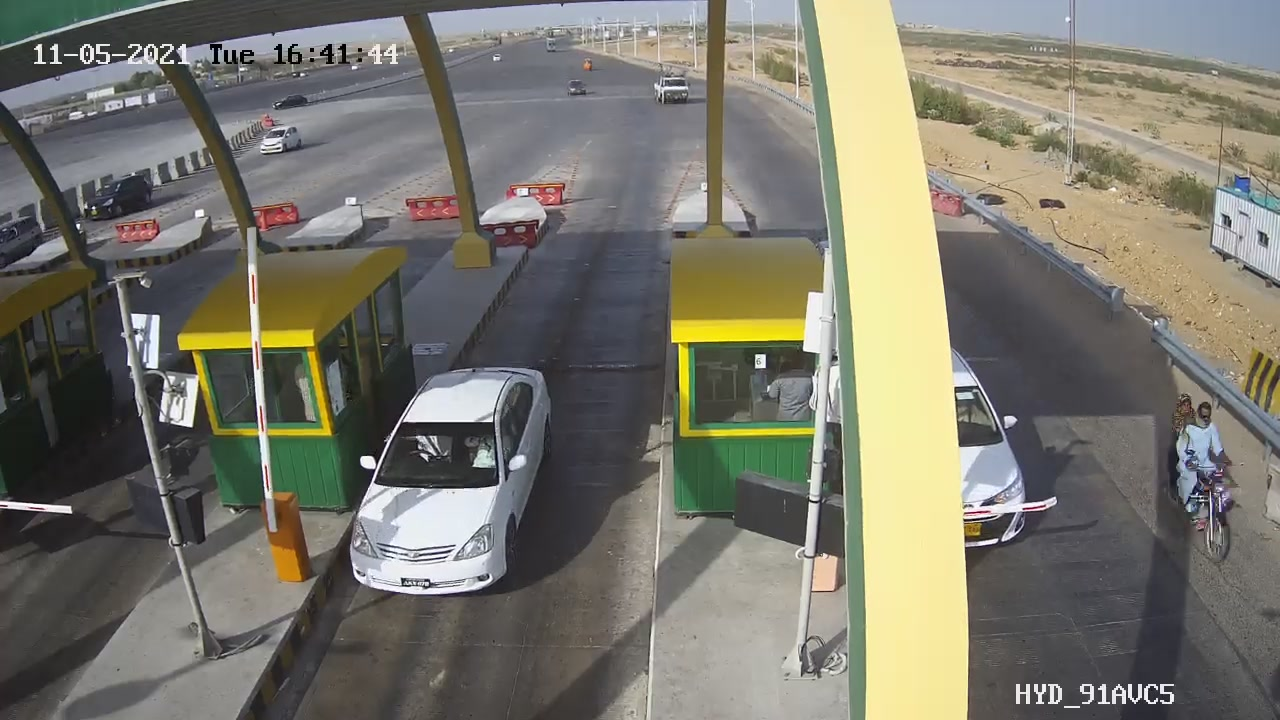F1: (320, 342, 579, 614)
